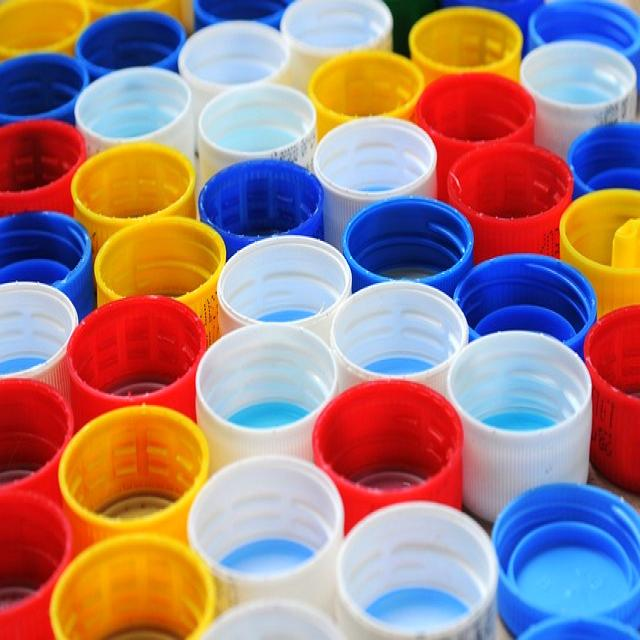Plastic: (448, 327, 599, 515), (188, 456, 349, 614), (340, 498, 495, 640), (196, 319, 342, 467), (65, 294, 207, 438), (62, 403, 209, 535), (314, 117, 441, 236), (447, 142, 570, 262), (70, 141, 201, 248), (343, 193, 472, 296), (515, 40, 639, 137), (198, 155, 326, 247), (0, 207, 99, 325), (178, 18, 296, 108), (586, 302, 640, 496), (306, 49, 422, 137), (560, 188, 640, 314), (0, 376, 72, 510), (0, 117, 91, 222), (0, 273, 72, 405), (0, 50, 90, 127)
